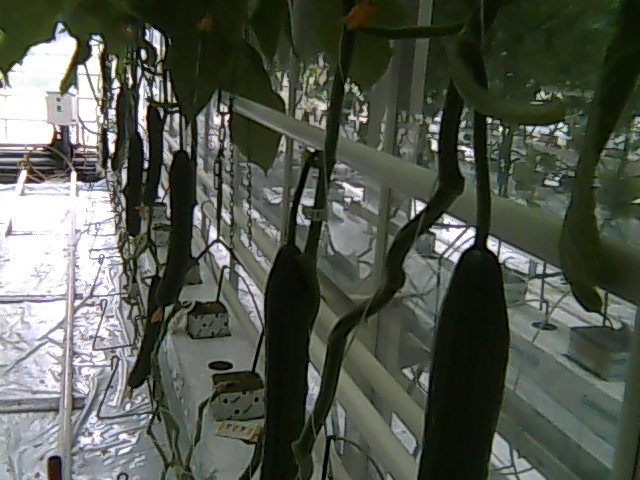concombre: (412, 238, 515, 480), (261, 229, 323, 480), (150, 144, 198, 329)
